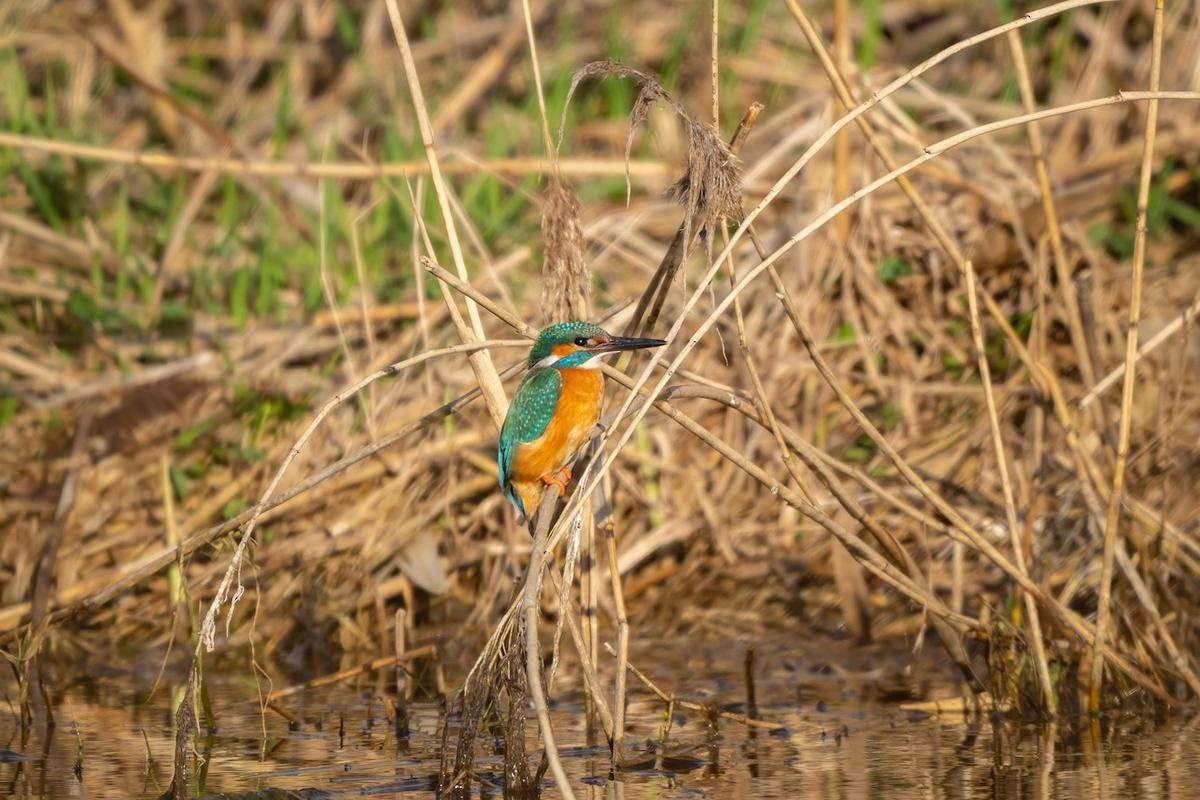kingfisher: (484, 311, 669, 521)
